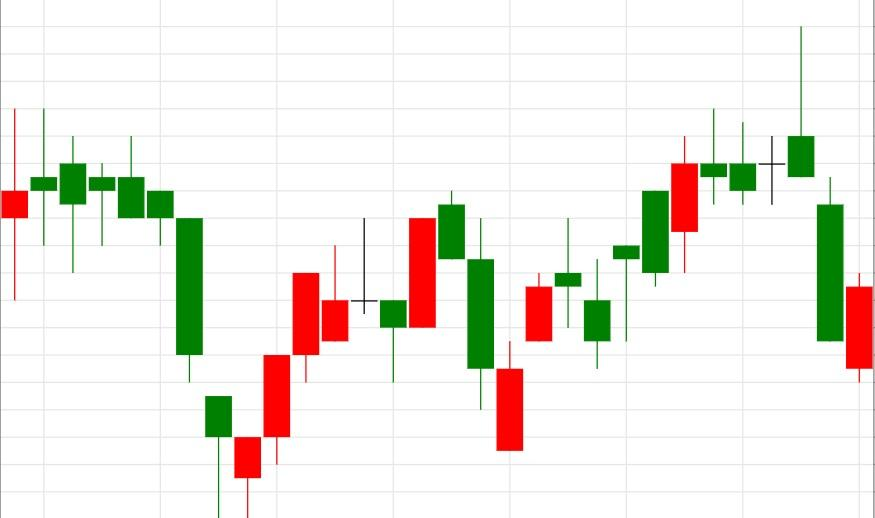shooting_star_fall: (583, 25, 815, 370)
three_white_soldiers_rise: (59, 135, 320, 518)
